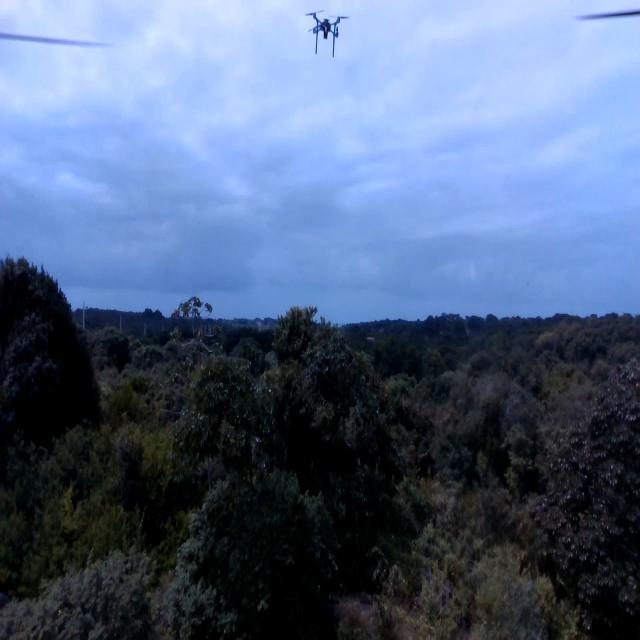-uav-: (299, 1, 352, 69)
